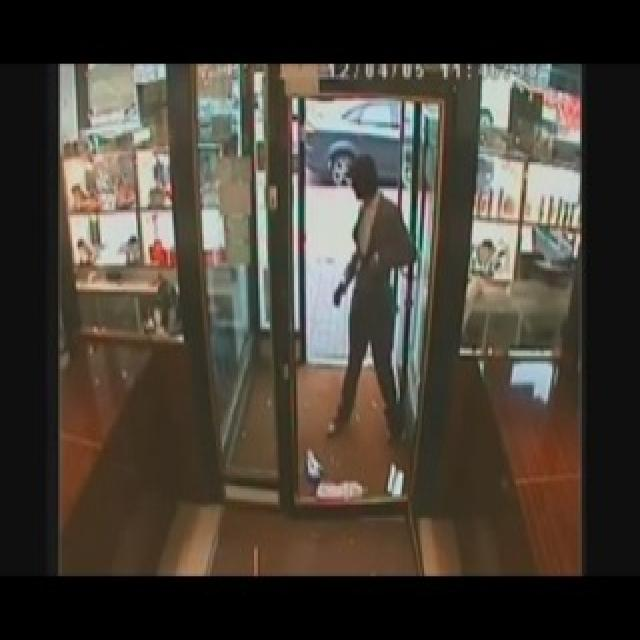thief: (326, 152, 411, 442)
